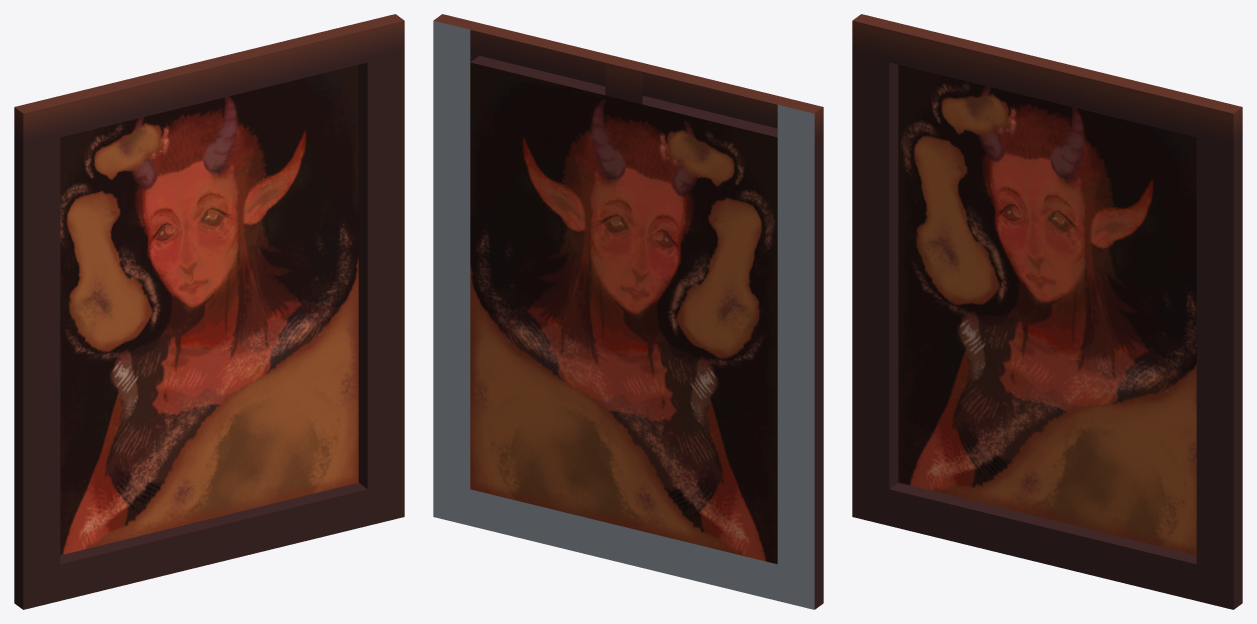
Rendered from WRLD_FBX_PAINTING.fbx.
The picture shows the model from 3 angles, left to right: view 1: azimuth 30°, elevation 25°; view 2: azimuth 150°, elevation 25°; view 3: azimuth 330°, elevation 25°; orthographic projection.
Parts seen in each view (by area): view 1: Plane.003; view 2: Plane.003; view 3: Plane.003.
Part boxes in pixels (box(x1,y1,x2,y2)): Plane.003: box(14, 14, 404, 609); Plane.003: box(433, 14, 823, 609); Plane.003: box(852, 14, 1242, 609).
Bounding box in the file's own units: 109 × 135 × 4.51.
